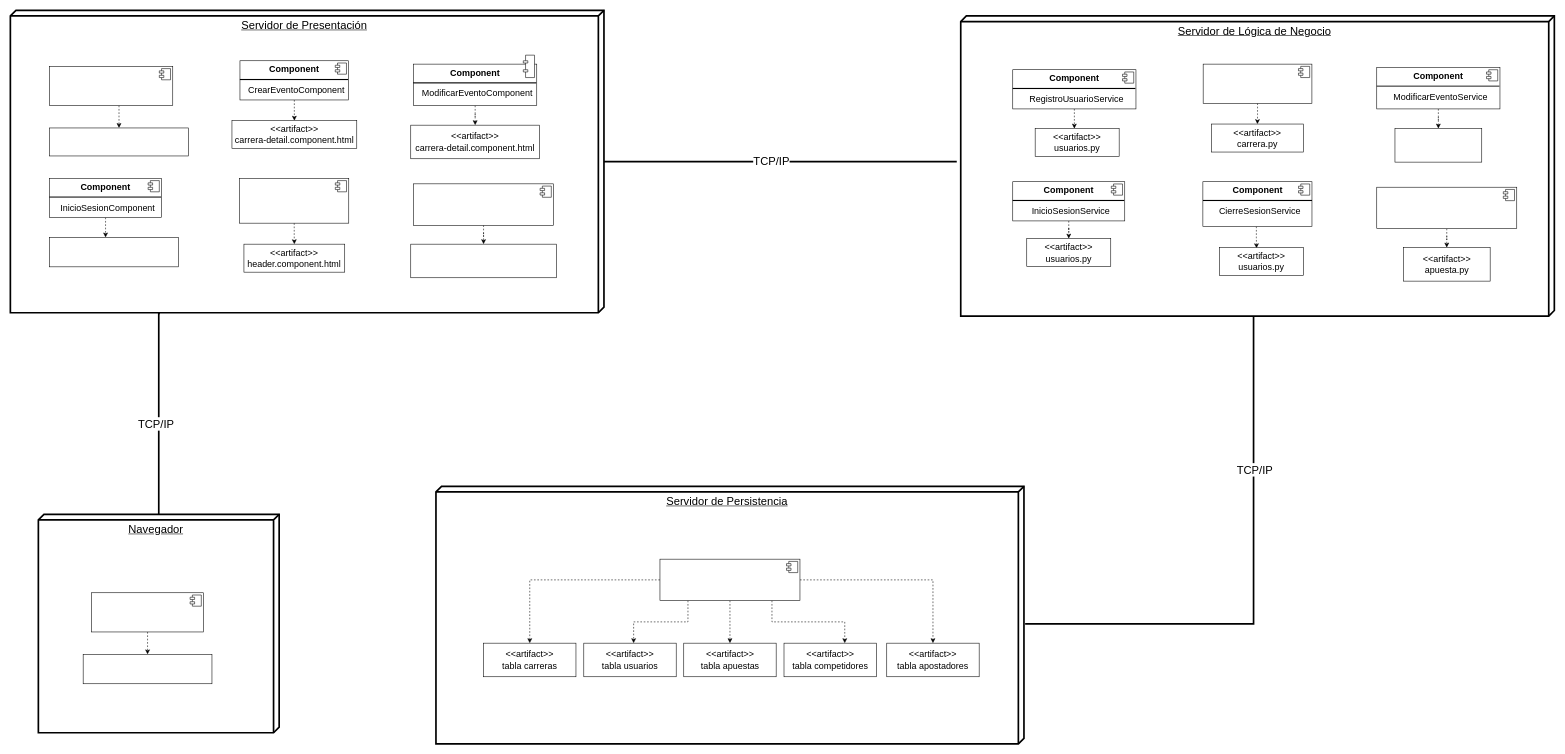
Image size: 1565x754. Some labels were removed from this diagram. Each missing label, with the centre of its shape:
"<<artifact>> apuesta-list.component.html" belongs at (483,261).
"<<artifact>> carreras.py" belongs at (1438,145).
"<<artifact>> inicio.html" belongs at (147,669).
"<<artifact>> usuario-login.component.htm" belongs at (113,252).
"<<artifact>> usuario-signup.component.html" belongs at (118,141).
"Component CierreSesionComponent" belongs at (294,200).
"Component CrearEventoService" belongs at (1257,83).
"Component eporradb" belongs at (729,580).
"Component MostrarApuestasComponent" belongs at (483,204).
"Component MostrarApuestasService" belongs at (1446,208).
"Component Navegador" belongs at (147,612).
"Component RegistroUsuarioComponent" belongs at (111,86).
